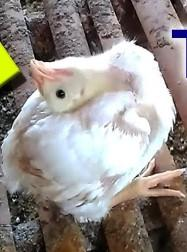AbNormal: (2, 41, 187, 222)
